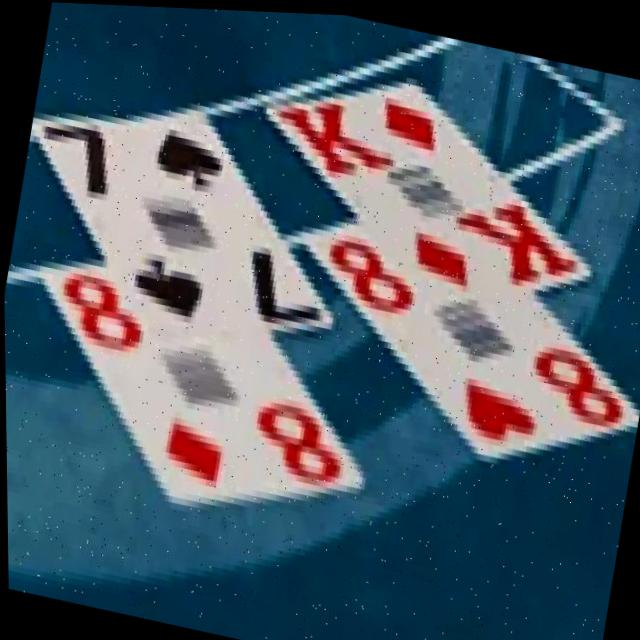Card-7: (33, 106, 332, 354)
Card-8: (296, 213, 636, 454), (40, 265, 363, 504)
Card-K: (265, 74, 590, 302)
